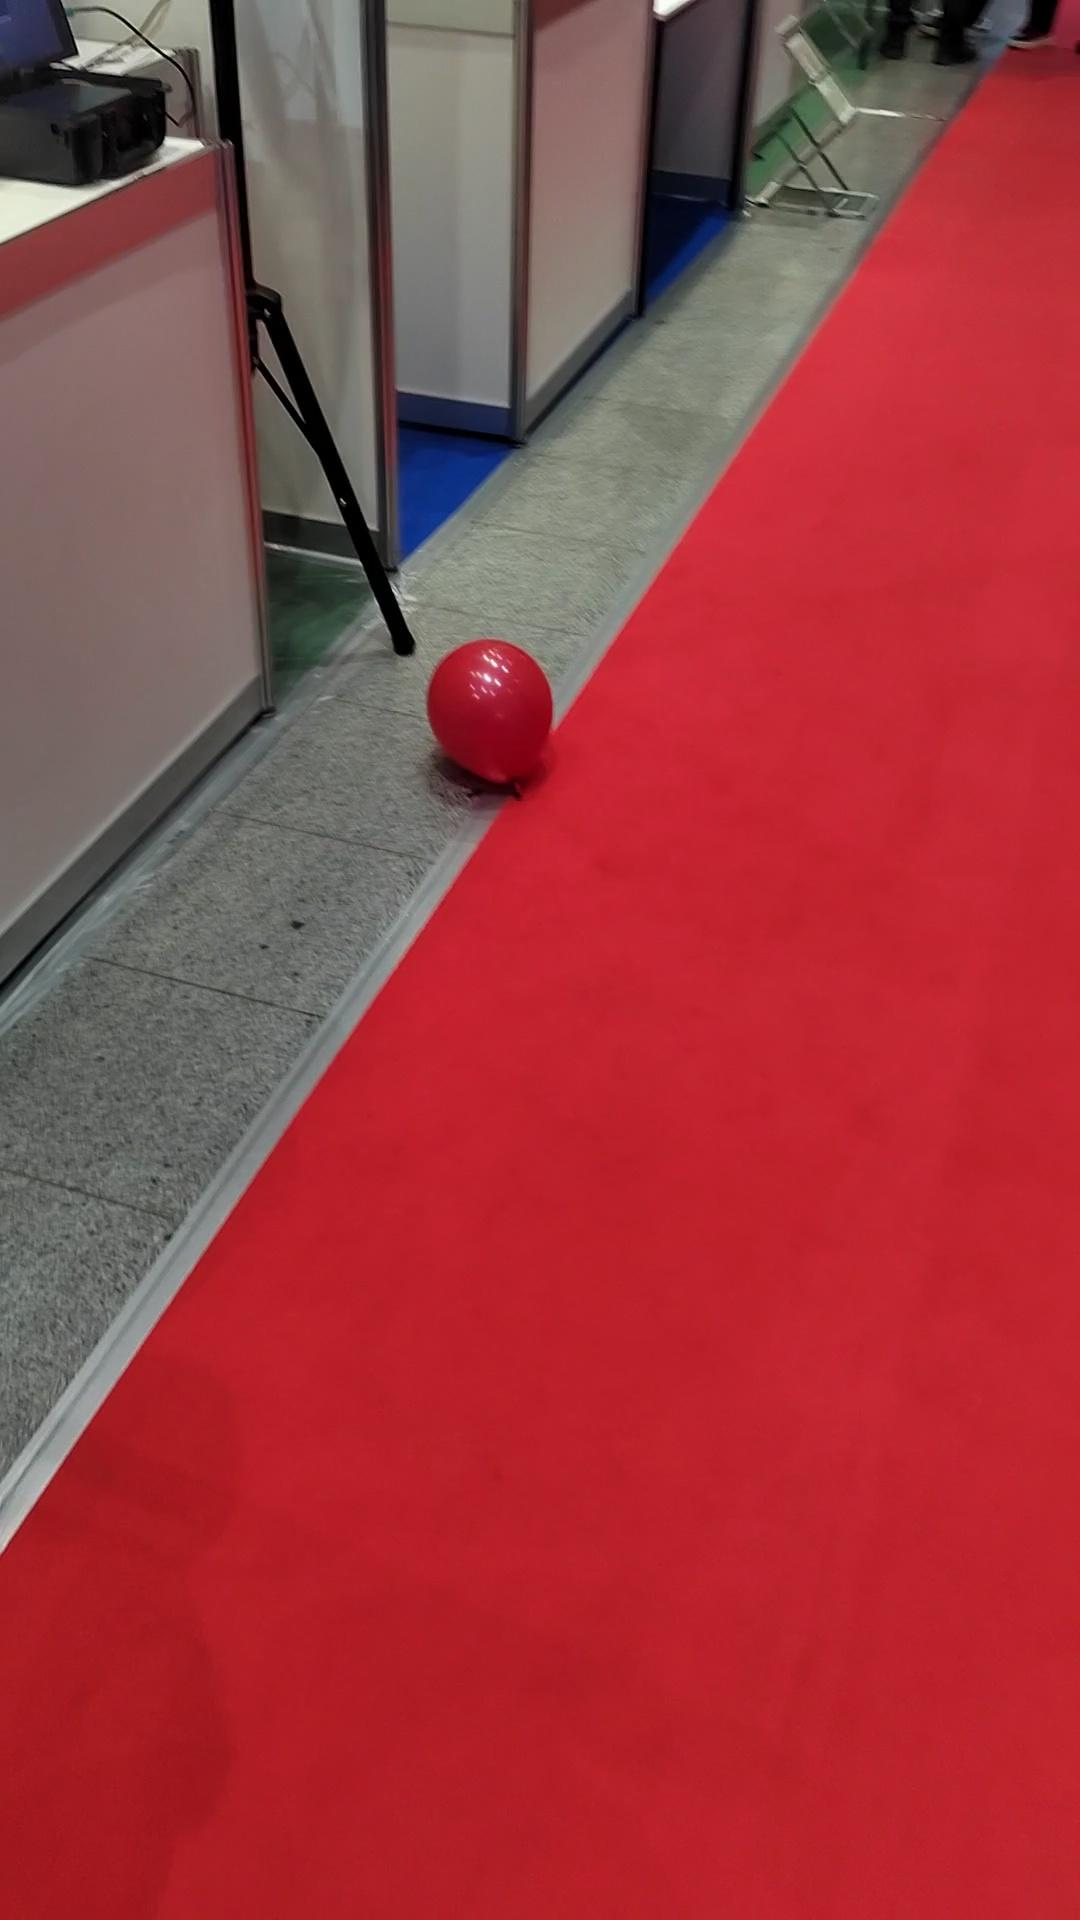red: (419, 634, 560, 787)
